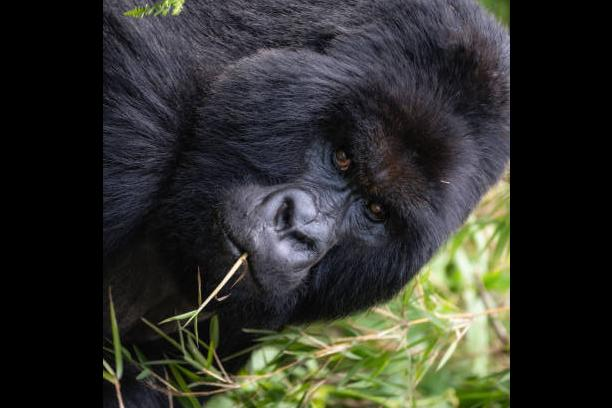goriile_montagne: (106, 0, 510, 408)
